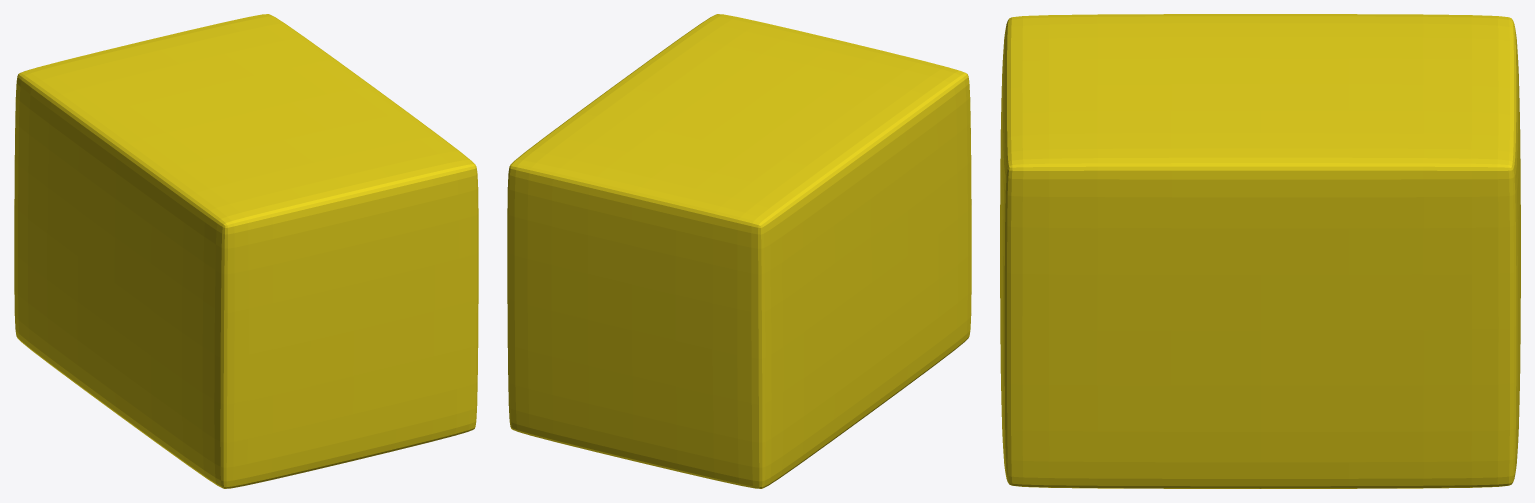
File: PTvideo028_yellow.fbx
3 renders of one model, left to right at view 1: azimuth 30°, elevation 25°; view 2: azimuth 150°, elevation 25°; view 3: azimuth 270°, elevation 25°, orthographic. The views are drawn at different scales.
Visible parts, largest first — view 1: Cube3х3.003; view 2: Cube3х3.003; view 3: Cube3х3.003.
Part boxes in pixels (x1,y1,x2,y2): Cube3х3.003: (14, 14, 478, 488); Cube3х3.003: (507, 14, 971, 488); Cube3х3.003: (1000, 14, 1520, 488).
Size of the model in its own units: 36.84 by 36.84 by 51.86.
